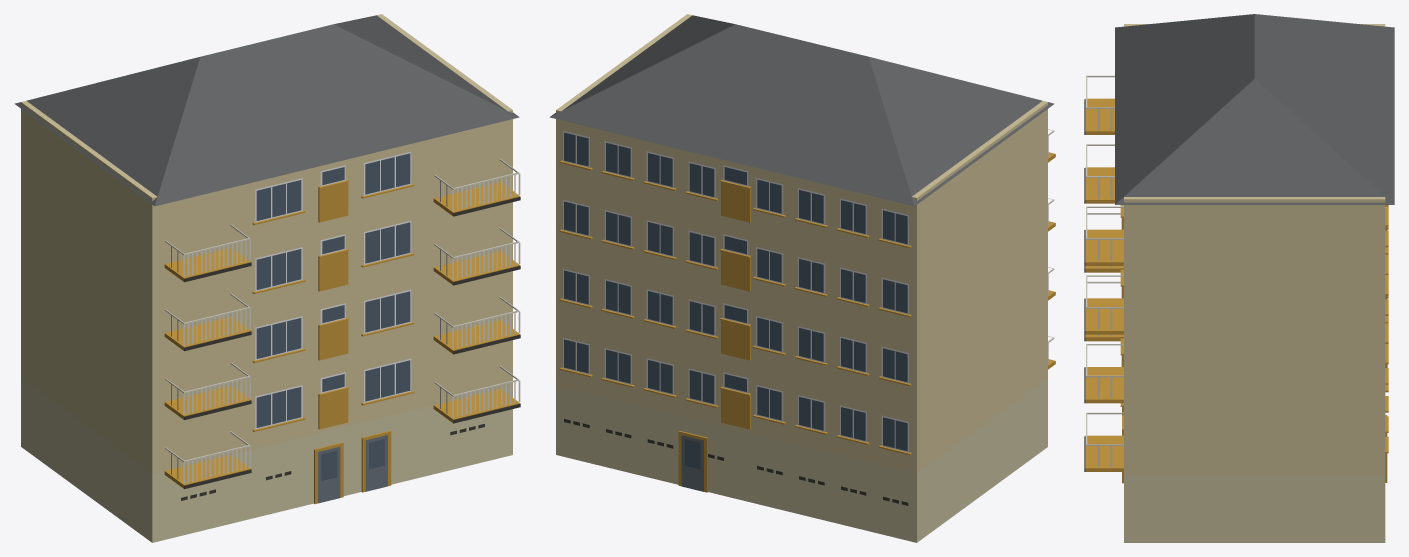
Rendered from nw-peach-render-balcony-front__ochre-yellow__5__hip__long__solid.glb.
3 renders of one model, left to right at view 1: azimuth 30°, elevation 25°; view 2: azimuth 150°, elevation 25°; view 3: azimuth 270°, elevation 25°, orthographic.
Visible parts, largest first — view 1: nw-peach-render-balcony-front__ochre-yellow__5__hip__long__s; view 2: nw-peach-render-balcony-front__ochre-yellow__5__hip__long__s; view 3: nw-peach-render-balcony-front__ochre-yellow__5__hip__long__s.
Boxes of the visible parts, bbox=[...] form: nw-peach-render-balcony-front__ochre-yellow__5__hip__long__s: bbox=[14, 14, 520, 542]; nw-peach-render-balcony-front__ochre-yellow__5__hip__long__s: bbox=[549, 14, 1055, 542]; nw-peach-render-balcony-front__ochre-yellow__5__hip__long__s: bbox=[1084, 14, 1394, 542].
Bounding box in the file's own units: 16.33 × 17.53 × 12.05.
